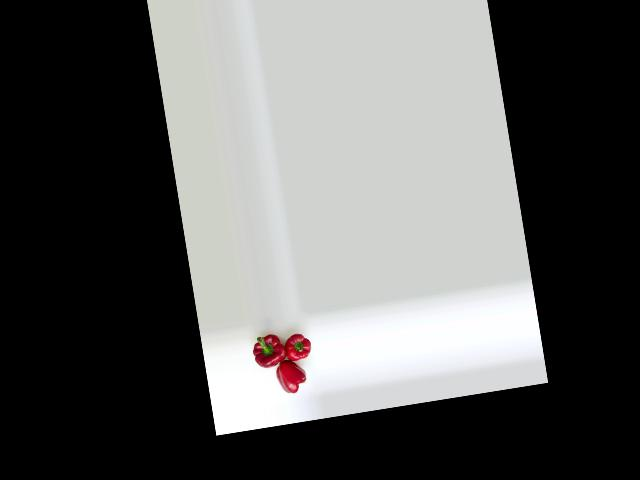bell_pepper: (271, 355, 314, 399)
